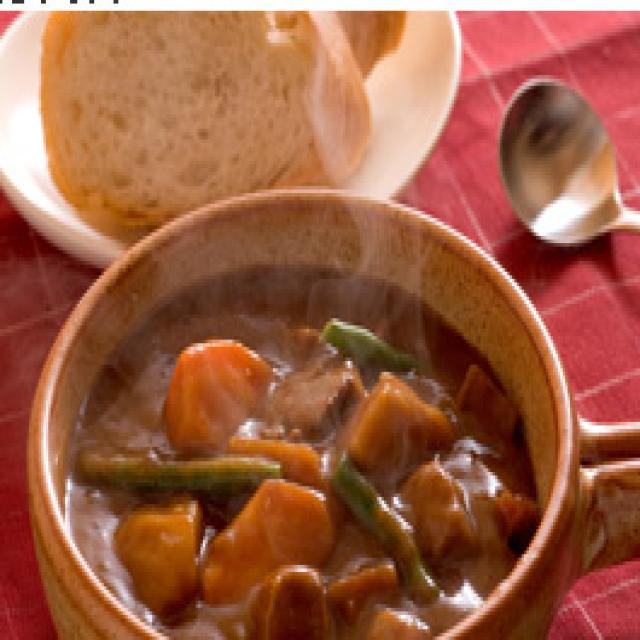汤锅炖物: (19, 182, 584, 640)
